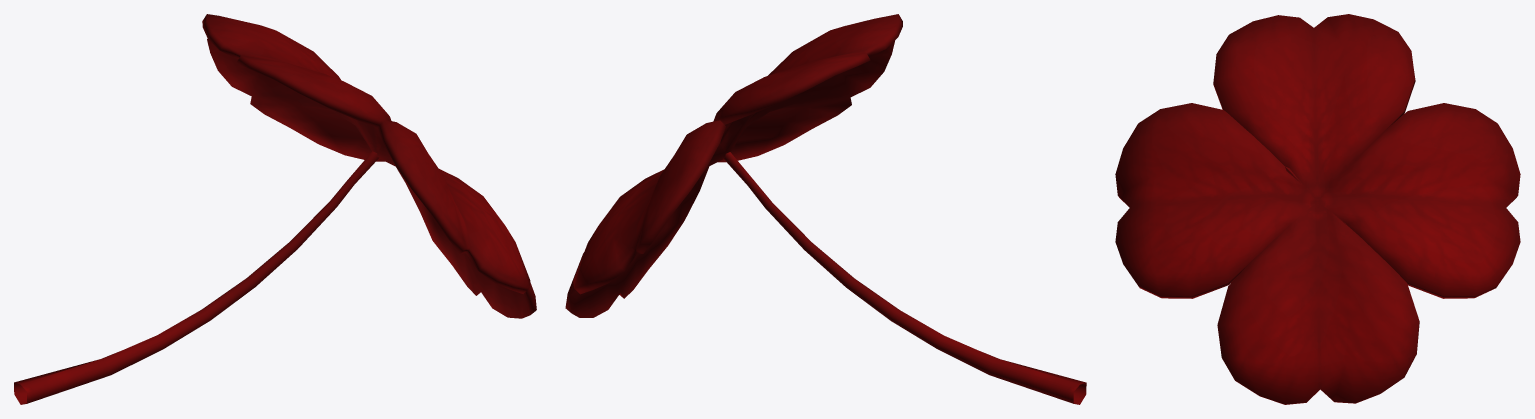
3 views of the same model, side by side, from view 1: azimuth 30°, elevation 25°; view 2: azimuth 150°, elevation 25°; view 3: azimuth 270°, elevation 25° (orthographic). The views are drawn at different scales.
Visible parts, largest first — view 1: F1211; view 2: F1211; view 3: F1211.
Boxes of the visible parts, x1,y1,x2,y2 form: F1211: (14,14,536,404); F1211: (565,14,1086,404); F1211: (1115,14,1520,404).
Bounding box in the file's own units: 0.3113 × 0.2024 × 0.2645.
